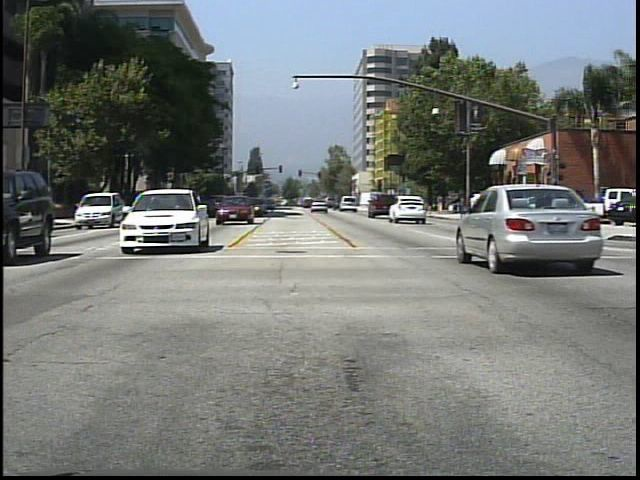person: (469, 191, 480, 220), (436, 191, 447, 214)
